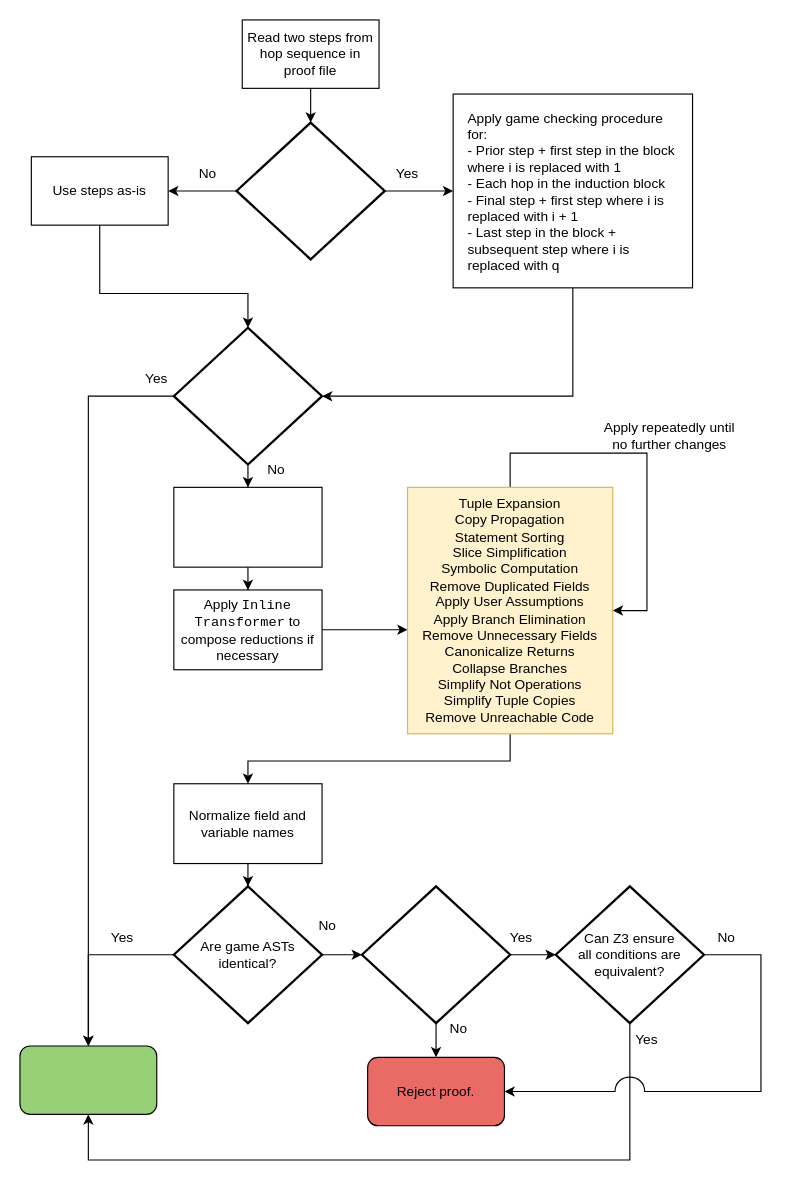
Image size: 790x1189. Some labels were removed from this diagram. The centre of each missing label's shape, as x and y in pixels:
Accept and check next step.: (x=88, y=1079)
Apply Instantiation Transformer to associate steps with ASTs: (x=247, y=526)
Are game ASTs identical apart from conditionals?: (x=435, y=954)
Are games indistinguishable by assumption?: (x=247, y=395)
Is one step an induction block? (from i = 1 to q): (x=310, y=190)
